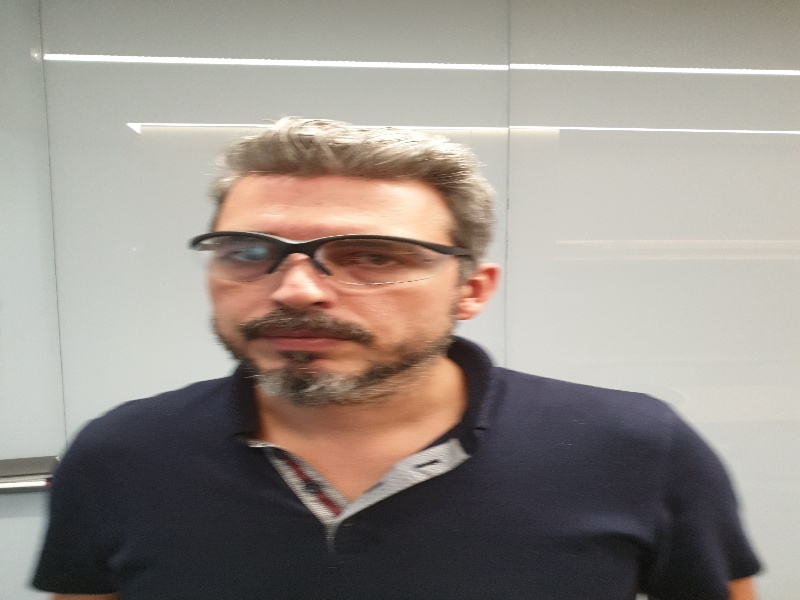Gozluk: (187, 231, 475, 289)
